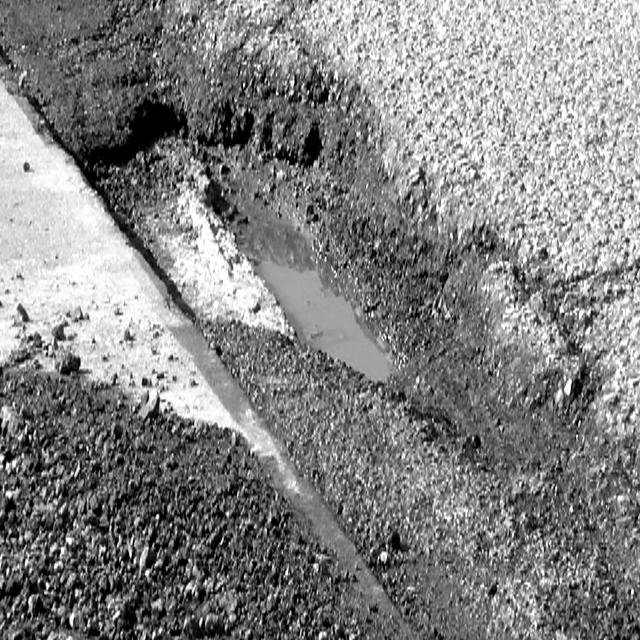pathole: (57, 41, 560, 636)
